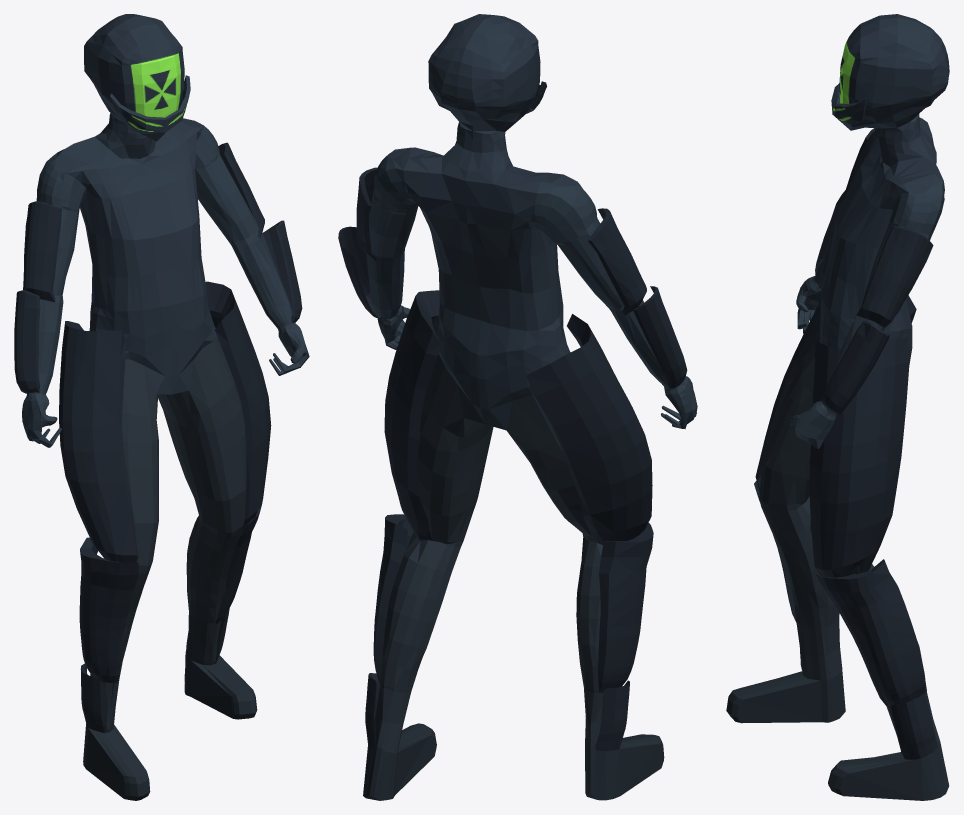
File: Bastion_Stun_000021.obj
The picture shows the model from 3 angles, left to right: view 1: azimuth 30°, elevation 25°; view 2: azimuth 150°, elevation 25°; view 3: azimuth 270°, elevation 25°; orthographic projection. The views are drawn at different scales.
Visible parts, largest first — view 1: Cube.002; view 2: Cube.002; view 3: Cube.002.
Part boxes in pixels (x1=…): Cube.002: x1=14, y1=14, x2=309, y2=800; Cube.002: x1=338, y1=14, x2=697, y2=800; Cube.002: x1=726, y1=14, x2=949, y2=800.
Size of the model in its own units: 1.63 by 3.8 by 1.04.
